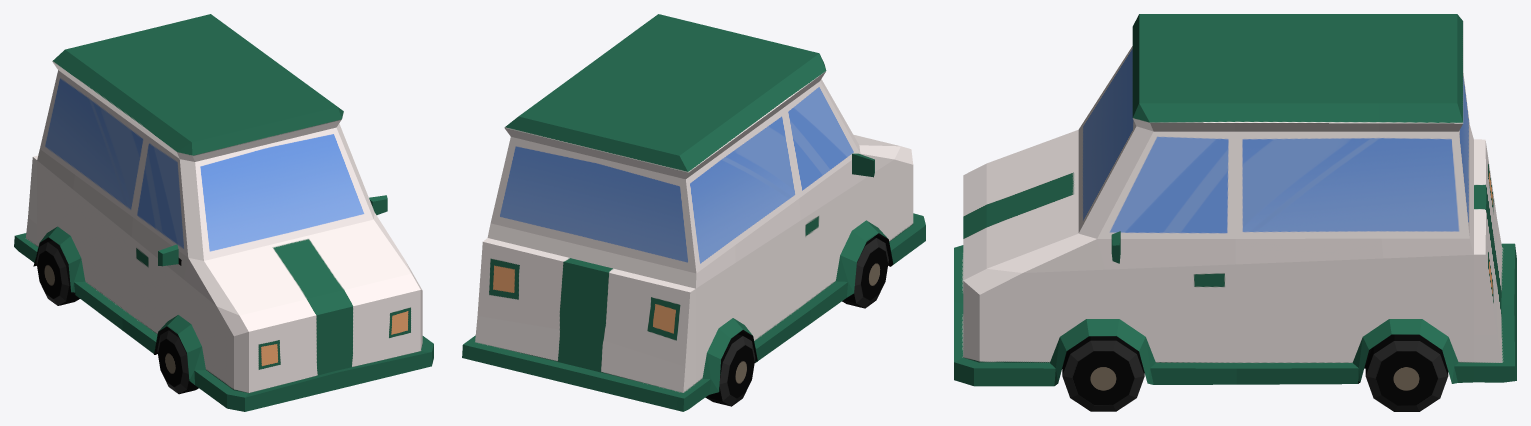
The model's file is car0.fbx.
3 renders of one model, left to right at view 1: azimuth 30°, elevation 25°; view 2: azimuth 150°, elevation 25°; view 3: azimuth 270°, elevation 25°, orthographic. The views are drawn at different scales.
Parts seen in each view (by area): view 1: car0, wheel4, wheel3; view 2: car0, wheel4, wheel3; view 3: car0, wheel2, whee_1.
Part boxes in pixels (x1,y1,x2,y2): car0: [14, 14, 433, 411]; wheel4: [36, 241, 79, 305]; wheel3: [157, 329, 198, 394]; car0: [462, 14, 925, 411]; wheel4: [705, 334, 755, 406]; wheel3: [842, 237, 888, 308]; car0: [954, 14, 1516, 386]; wheel2: [1365, 334, 1448, 411]; whee_1: [1062, 336, 1144, 411].
Bounding box in the file's own units: 2.22 × 2.14 × 3.77.
